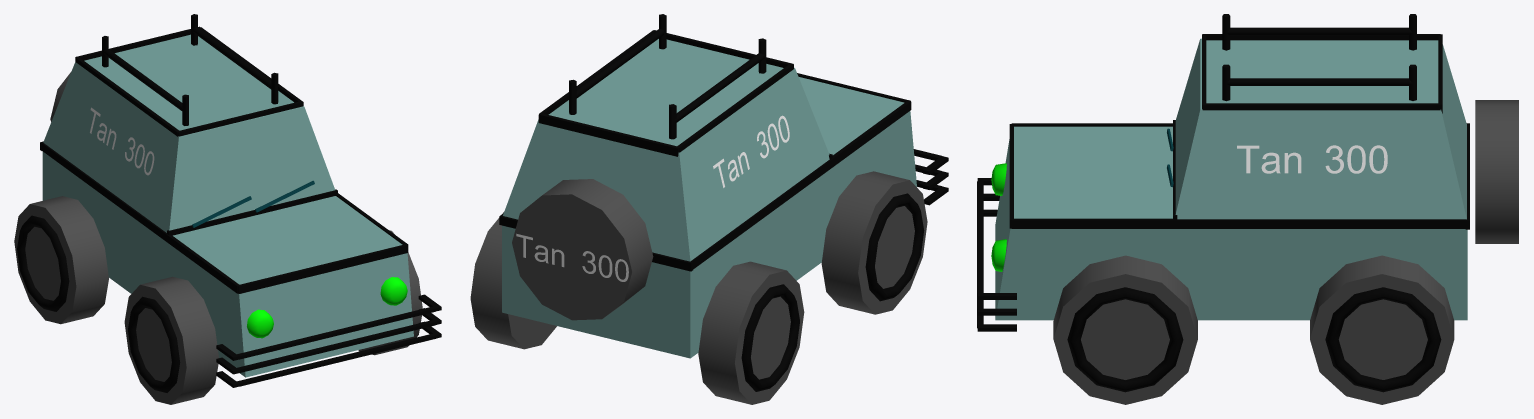
The model's file is Tank300.glb.
The picture shows the model from 3 angles, left to right: view 1: azimuth 30°, elevation 25°; view 2: azimuth 150°, elevation 25°; view 3: azimuth 270°, elevation 25°; orthographic projection. The views are drawn at different scales.
Visible parts, largest first — view 1: carbody, Wheel, hengjia, Bbox, Wheel-in, dingpeng, light, Log, yushua; view 2: carbody, Wheel, hengjia, Wheel-in, dingpeng, Log, Bbox; view 3: carbody, Wheel, hengjia, Wheel-in, dingpeng, Bbox, Log, light.
Boxes of the visible parts, x1=… form: carbody: x1=42, y1=34, x2=413, y2=377; Wheel: x1=14, y1=72, x2=422, y2=404; hengjia: x1=40, y1=26, x2=408, y2=293; Bbox: x1=216, y1=294, x2=441, y2=387; Wheel-in: x1=17, y1=215, x2=180, y2=392; dingpeng: x1=102, y1=14, x2=278, y2=125; light: x1=247, y1=277, x2=407, y2=338; Log: x1=90, y1=107, x2=154, y2=175; yushua: x1=192, y1=180, x2=314, y2=227; carbody: x1=502, y1=39, x2=916, y2=358; Wheel: x1=470, y1=171, x2=927, y2=404; hengjia: x1=499, y1=30, x2=911, y2=271; Wheel-in: x1=741, y1=193, x2=924, y2=391; dingpeng: x1=569, y1=14, x2=766, y2=139; Log: x1=516, y1=115, x2=789, y2=281; Bbox: x1=913, y1=149, x2=948, y2=205; carbody: x1=995, y1=38, x2=1467, y2=320; Wheel: x1=1053, y1=100, x2=1518, y2=404; hengjia: x1=1009, y1=34, x2=1469, y2=229; Wheel-in: x1=1067, y1=287, x2=1441, y2=392; dingpeng: x1=1222, y1=14, x2=1416, y2=101; Bbox: x1=977, y1=178, x2=1016, y2=331; Log: x1=1237, y1=145, x2=1387, y2=173; light: x1=991, y1=163, x2=1006, y2=271.
Size of the model in its own units: 1.39 by 1.37 by 2.27.
